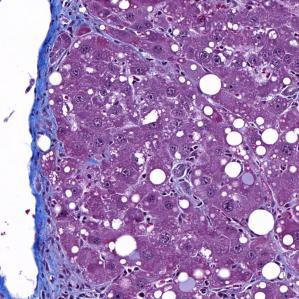fibrosis: (34, 247, 98, 294), (44, 4, 101, 46)
